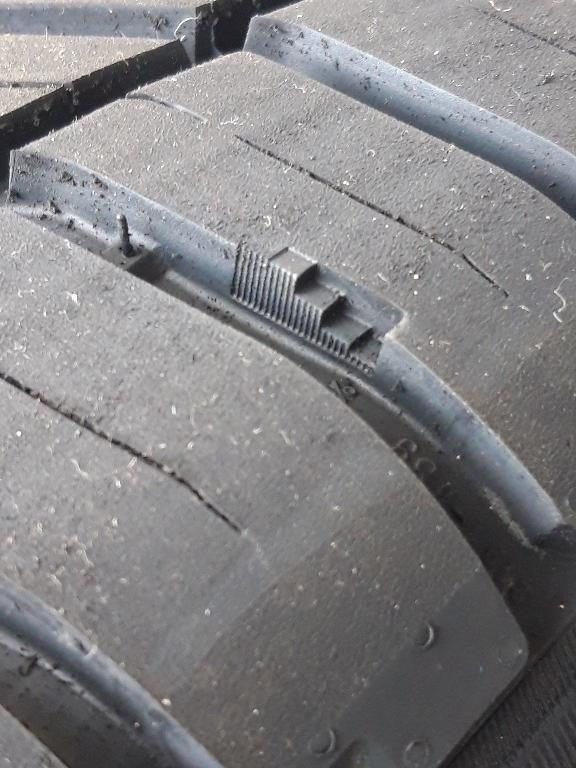temoin:75: (262, 244, 413, 382)
